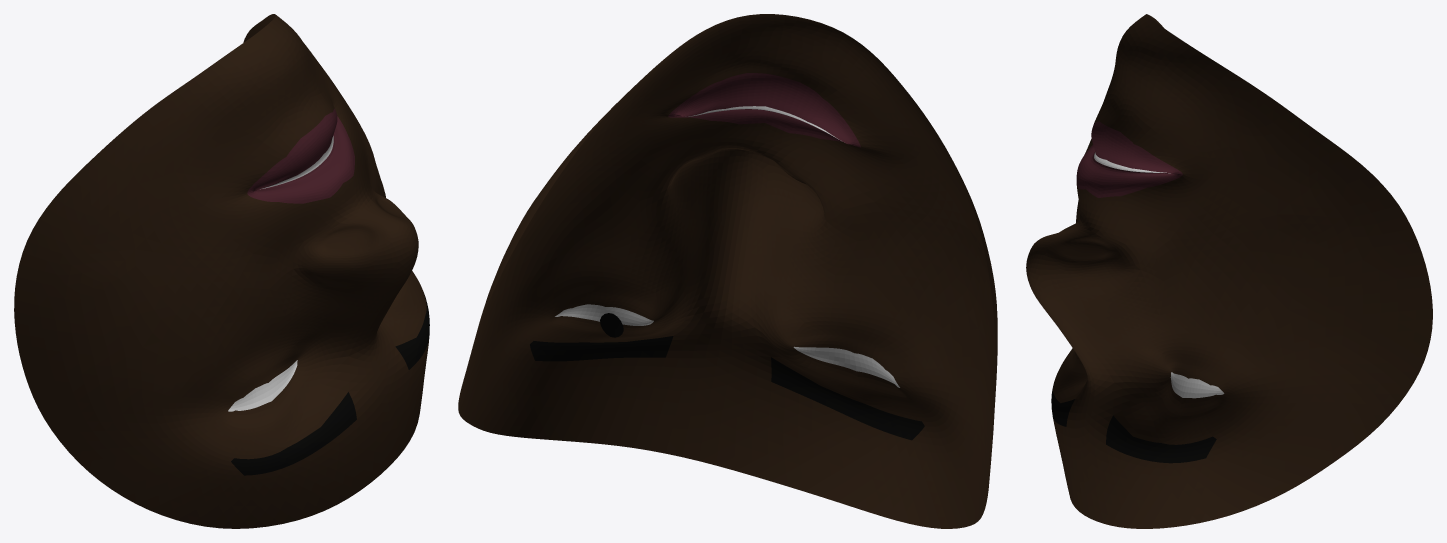
File: frame_00014.obj
3 renders of one model, left to right at view 1: azimuth 30°, elevation 25°; view 2: azimuth 150°, elevation 25°; view 3: azimuth 270°, elevation 25°, orthographic. The views are drawn at different scales.
Parts seen in each view (by area): view 1: face_mesh_subdivided; view 2: face_mesh_subdivided; view 3: face_mesh_subdivided.
Part boxes in pixels (<box>): face_mesh_subdivided: <box>14,14,429,528</box>; face_mesh_subdivided: <box>458,14,997,528</box>; face_mesh_subdivided: <box>1026,14,1432,528</box>.
Bounding box in the file's own units: 0.4784 × 0.5111 × 0.4074.
